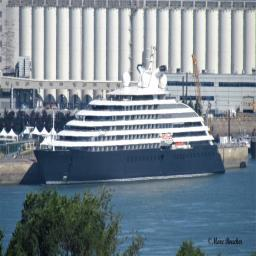cruises: (34, 60, 228, 186)
